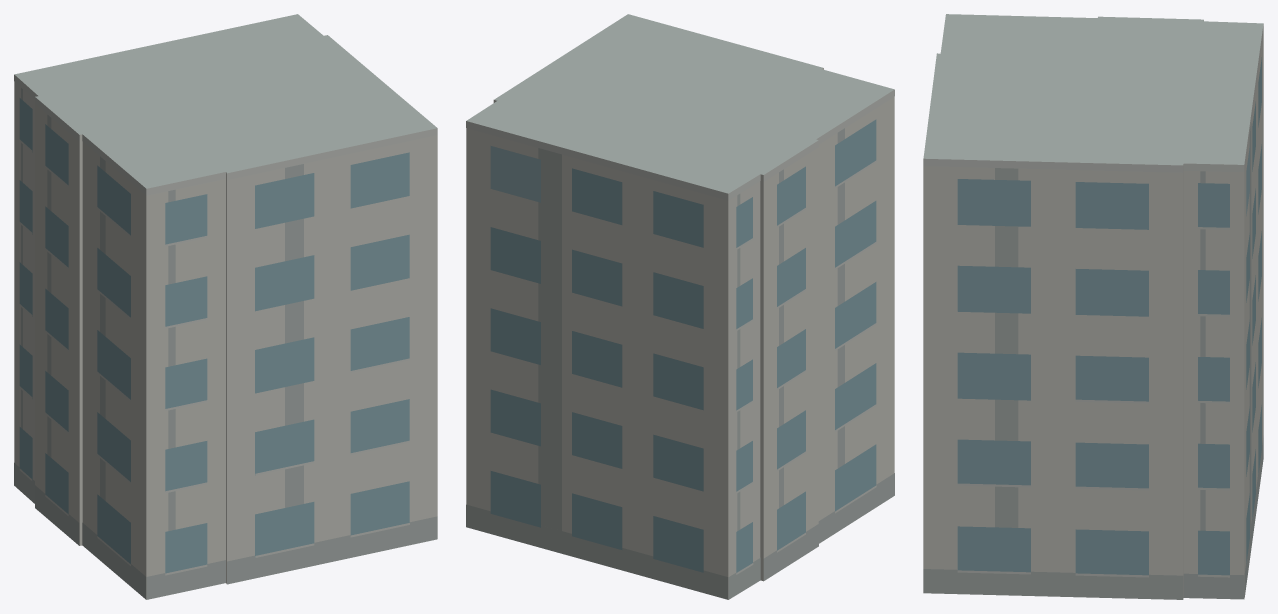
File: survey-upis-32657703.glb
3 renders of one model, left to right at view 1: azimuth 30°, elevation 25°; view 2: azimuth 150°, elevation 25°; view 3: azimuth 270°, elevation 25°, orthographic. The views are drawn at different scales.
Parts seen in each view (by area): view 1: survey-upis-32657703.tmp; view 2: survey-upis-32657703.tmp; view 3: survey-upis-32657703.tmp.
Boxes of the visible parts, left/top/right/bottom form: survey-upis-32657703.tmp: left=14, top=14, right=437, bottom=599; survey-upis-32657703.tmp: left=466, top=14, right=894, bottom=599; survey-upis-32657703.tmp: left=923, top=14, right=1263, bottom=599.
Bounding box in the file's own units: 10.68 × 14.28 × 10.14.
